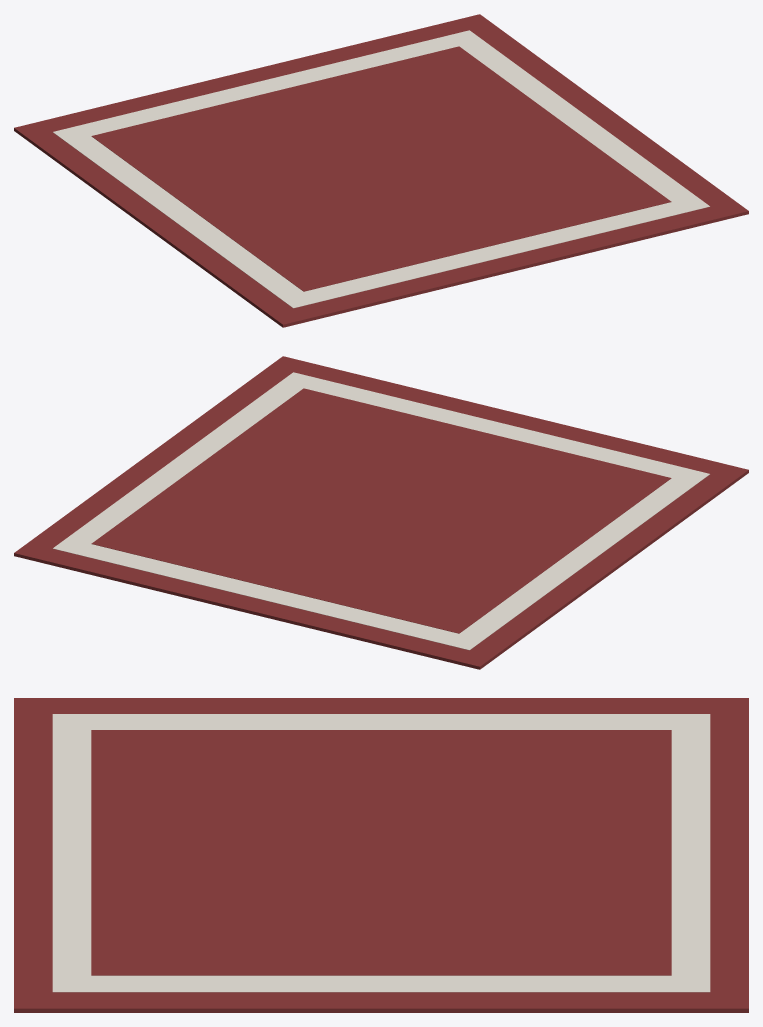
Rendered from rugSmall.glb.
3 views of the same model, one above another, from view 1: azimuth 30°, elevation 25°; view 2: azimuth 150°, elevation 25°; view 3: azimuth 270°, elevation 25° (orthographic). The views are drawn at different scales.
Parts seen in each view (by area): view 1: rugSmall; view 2: rugSmall; view 3: rugSmall.
Boxes of the visible parts, x1,y1,x2,y2 form: rugSmall: (14,14,748,327); rugSmall: (14,356,748,669); rugSmall: (14,698,748,1012).
Bounding box in the file's own units: 1.9 × 0.014 × 1.9.
